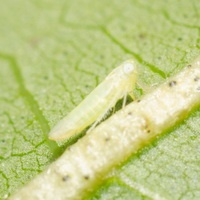insect: (49, 60, 136, 140)
